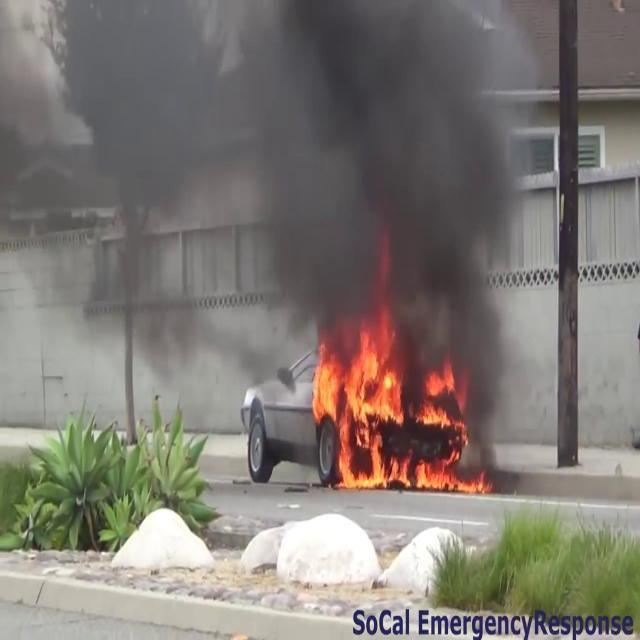Fire: (310, 315, 412, 489), (414, 360, 492, 498)
Smoke: (0, 0, 540, 353)
